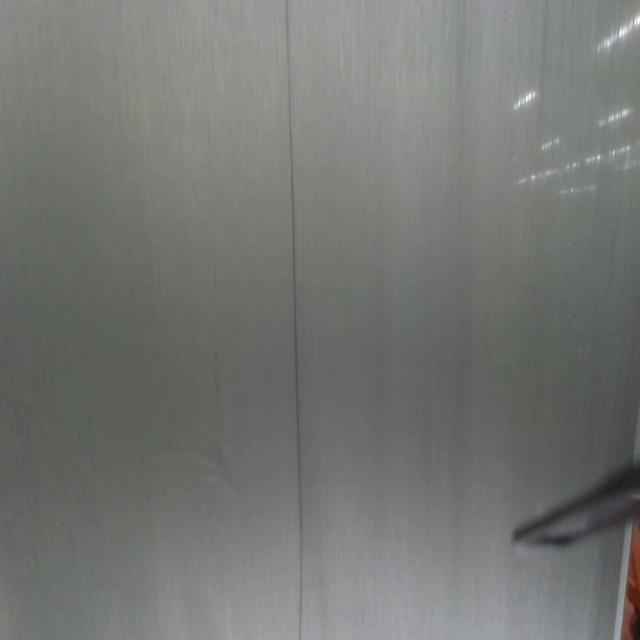crease: (284, 0, 304, 640)
